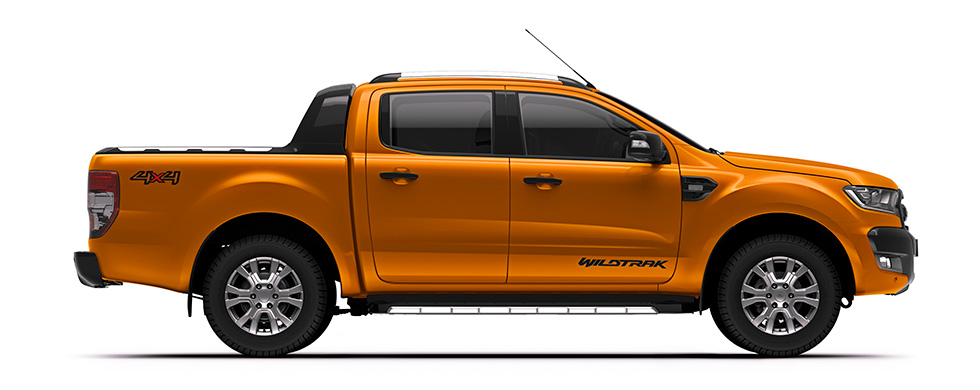pickup: (71, 67, 921, 354)
